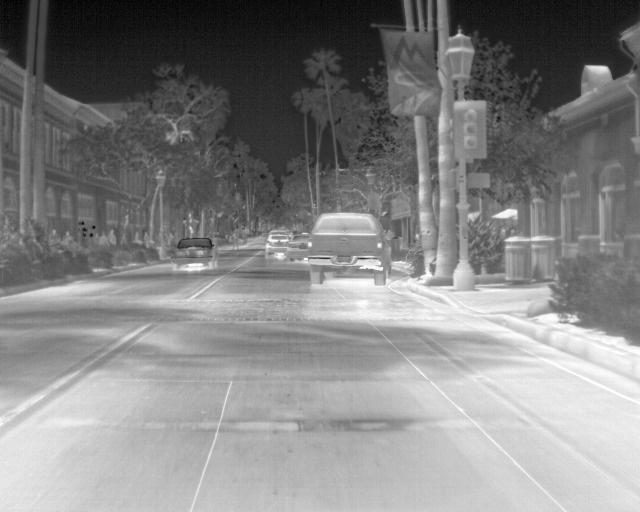bicycle: (305, 210, 395, 285), (170, 234, 220, 272), (265, 227, 295, 260), (287, 232, 310, 265)
empty: (97, 232, 111, 250), (106, 227, 118, 248), (61, 229, 76, 244), (49, 228, 62, 244)
